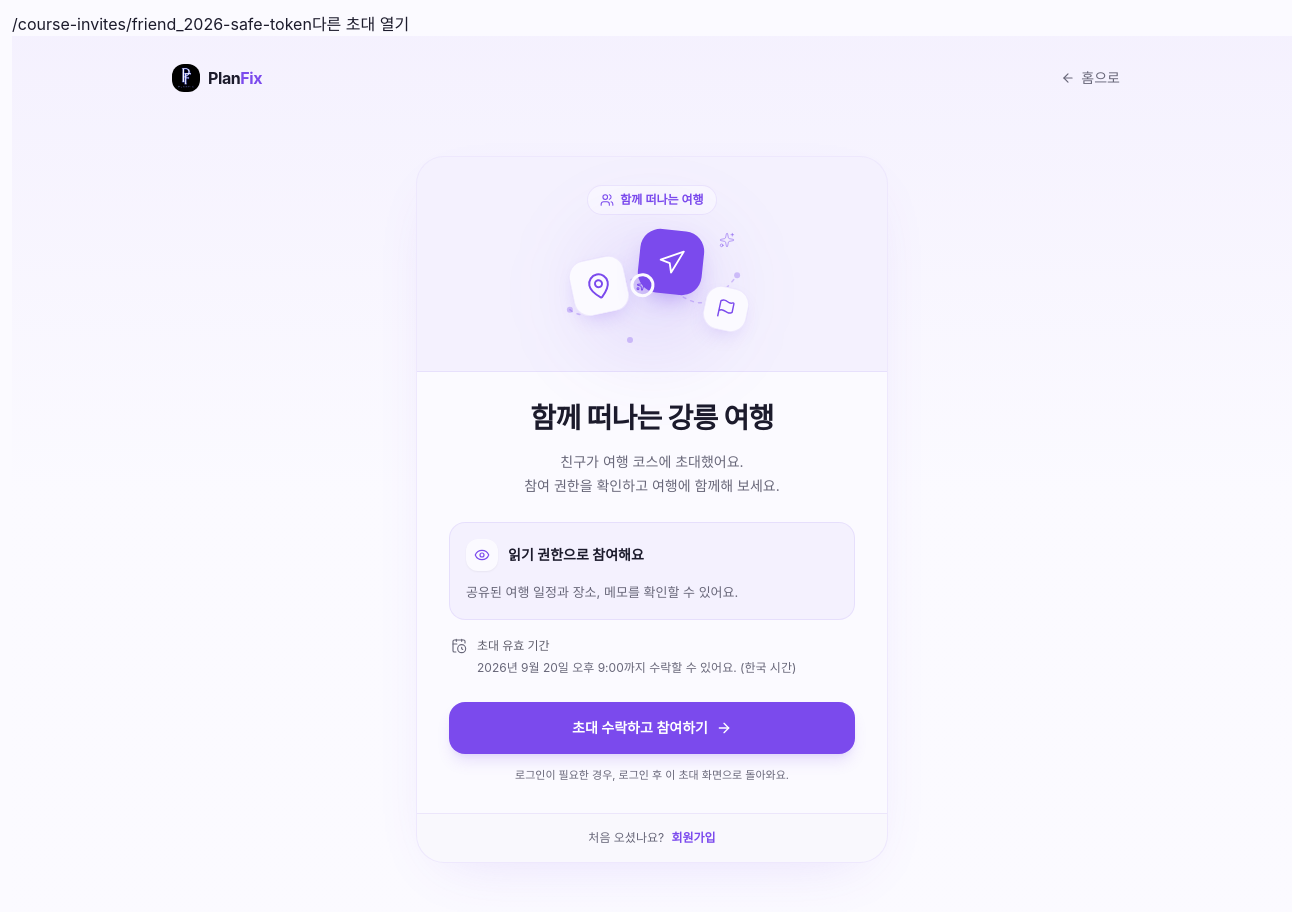
CourseInvitePage › StrictMode의 재마운트와 미리보기 조회는 수락 요청을 보내지 않는다
Expected: the heading "함께 떠나는 강릉 여행" is shown, x1=530 y1=401 x2=774 y2=435
Click the button "초대 수락하고 참여하기" at (652, 728), box x1=449 y1=702 x2=855 y2=754
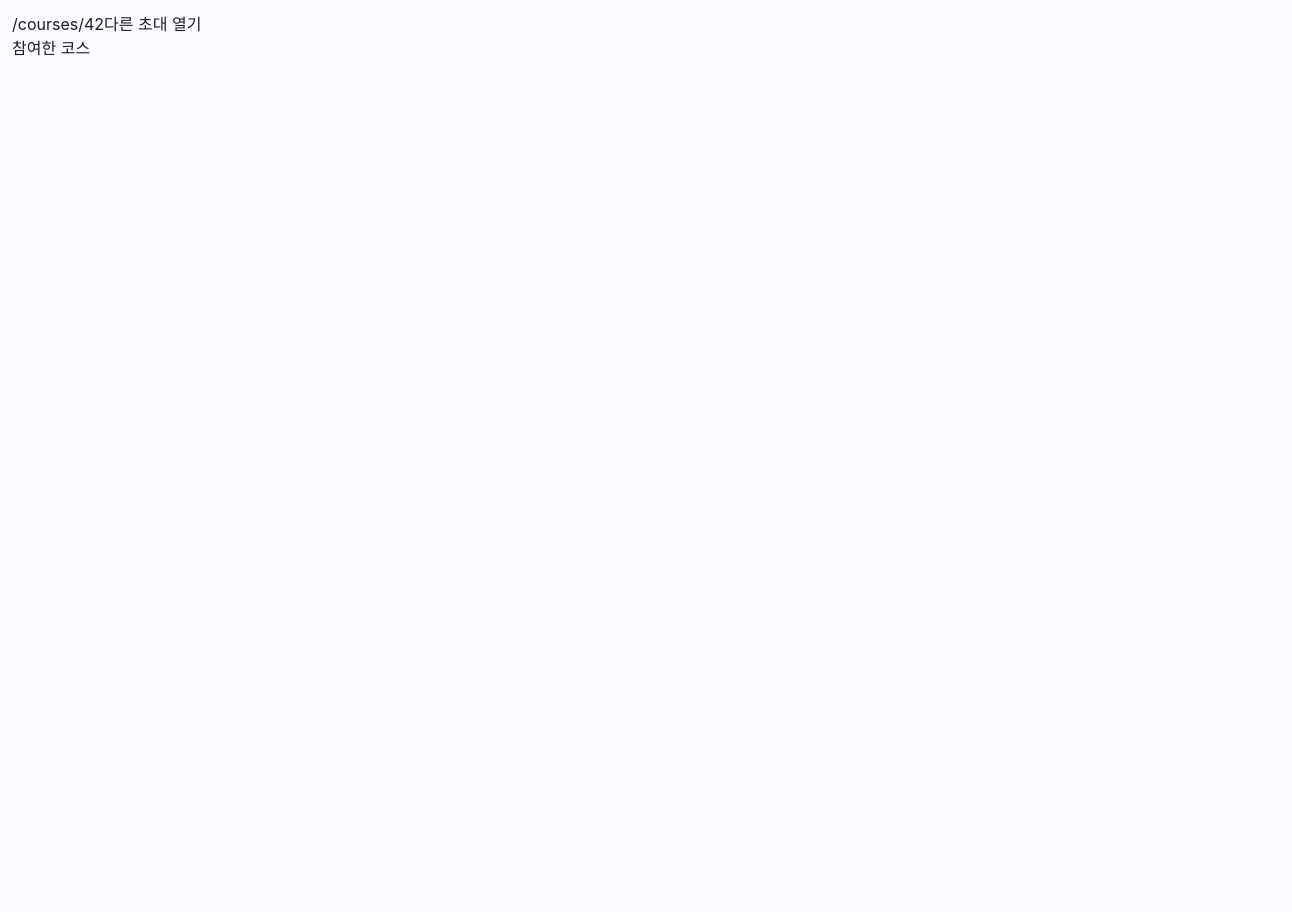
Result: the heading "참여한 코스" is shown at x1=12 y1=38 x2=90 y2=58
